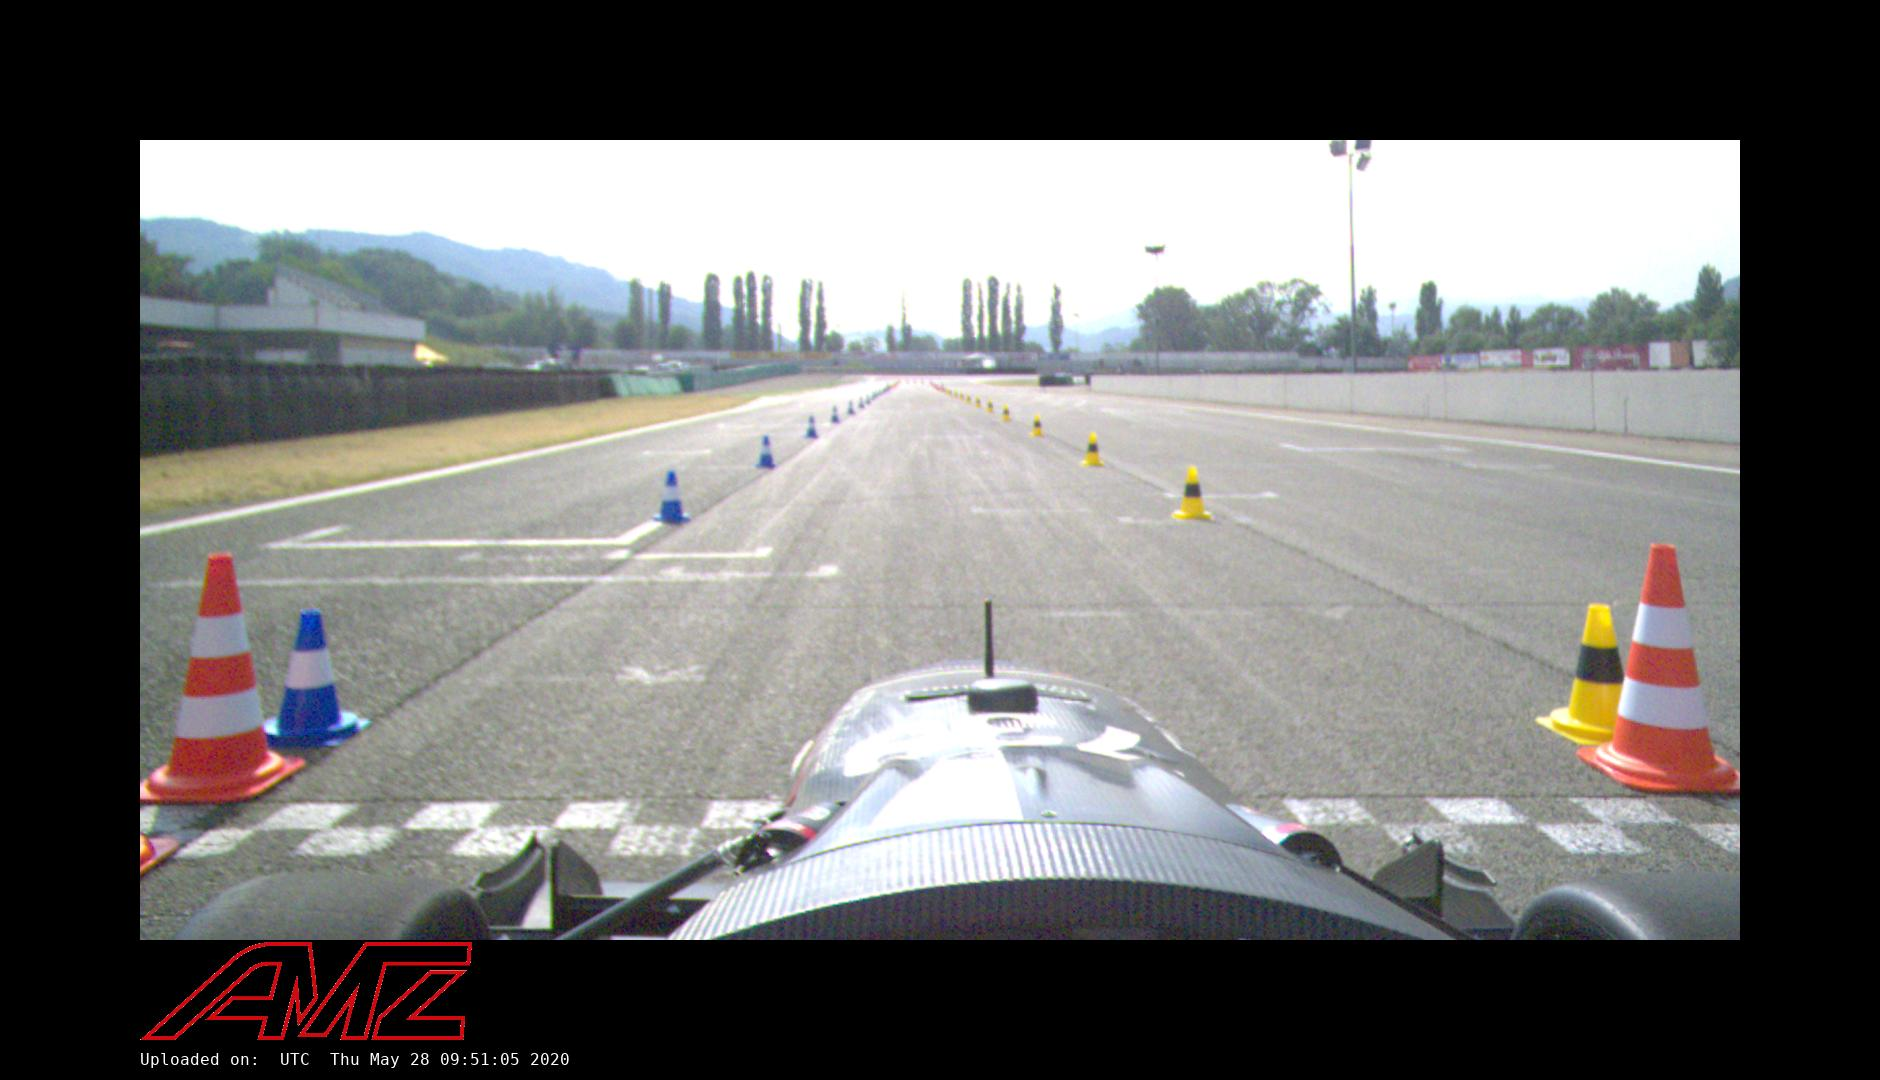blue_cone: (256, 608, 374, 749), (652, 470, 692, 523), (754, 434, 777, 469), (803, 415, 820, 439), (829, 406, 841, 424), (846, 400, 855, 413), (857, 397, 864, 408), (865, 394, 872, 404)
large_orange_cone: (139, 552, 307, 802), (1573, 544, 1735, 794)
yellow_cone: (1537, 607, 1630, 745), (1172, 466, 1212, 521), (1079, 431, 1104, 466), (1029, 413, 1045, 435), (1001, 404, 1011, 420), (985, 399, 996, 413), (974, 395, 983, 408), (966, 393, 971, 403), (959, 391, 965, 400)
